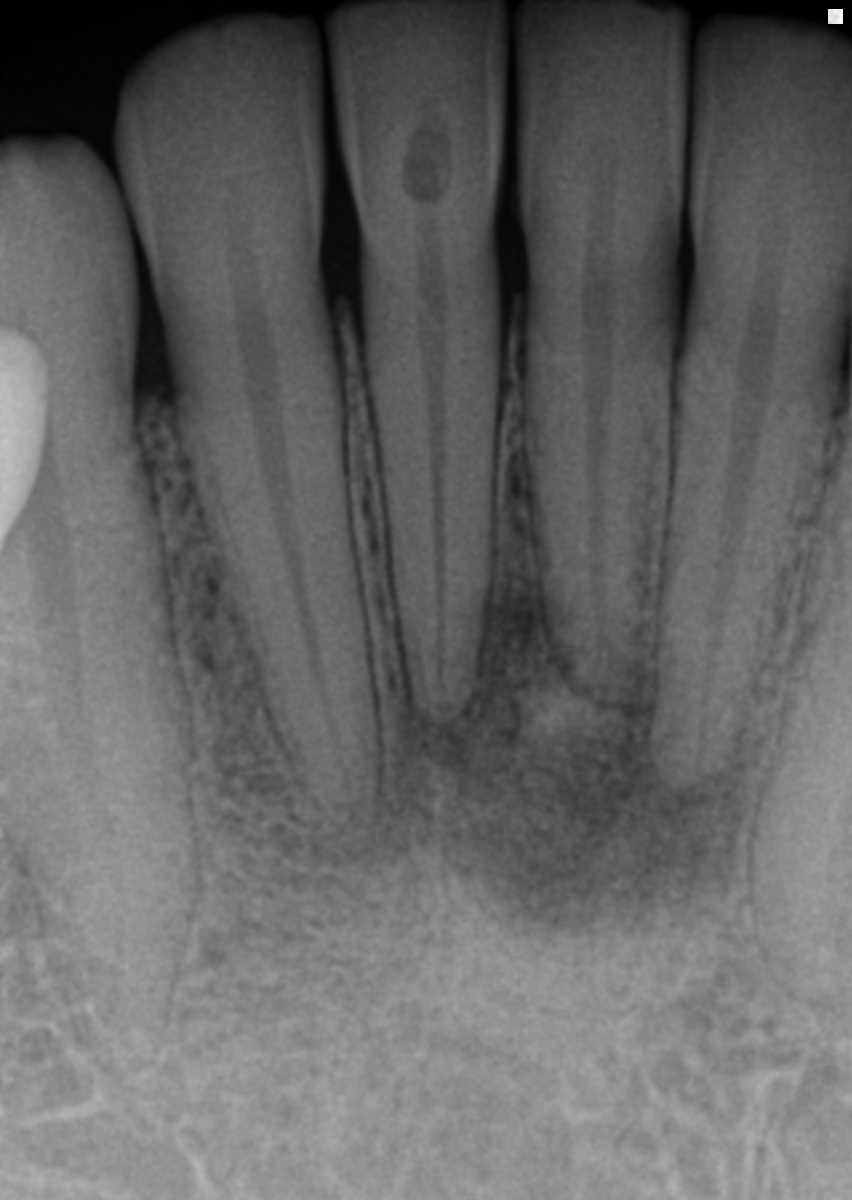Apical Lesion: (339, 598, 743, 963)
Main Canal: (237, 356, 358, 805), (20, 502, 120, 1024), (696, 326, 777, 775), (411, 302, 446, 709), (580, 312, 612, 690)
Main Root: (0, 454, 192, 1071), (178, 339, 384, 824), (649, 315, 851, 782), (521, 299, 681, 701), (362, 294, 504, 726)
Mesial Root: (178, 339, 384, 824)
